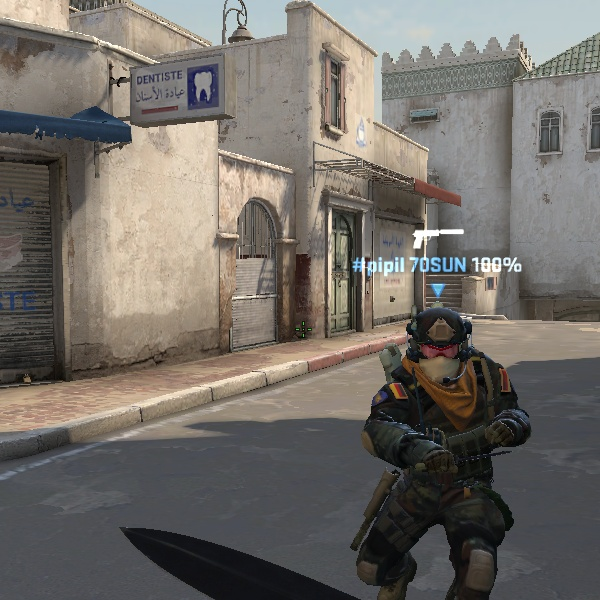ct_body: (310, 291, 540, 600)
ct_head: (401, 301, 483, 379)
